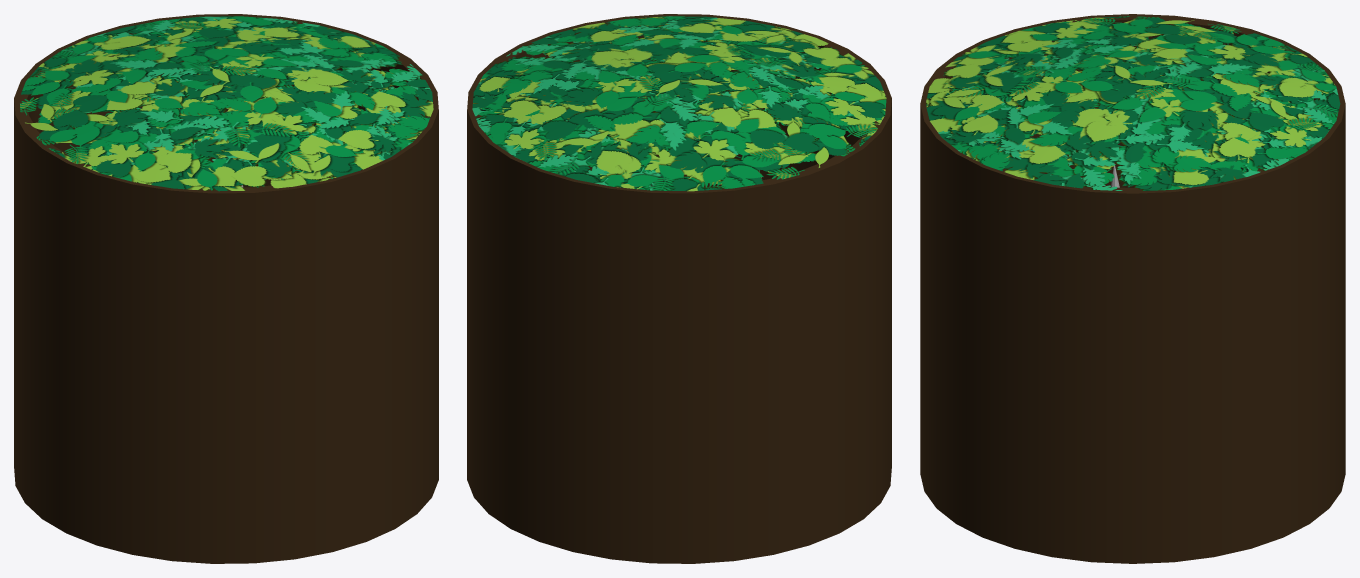
Rendered from Pitfall.fbx.
3 renders of one model, left to right at view 1: azimuth 30°, elevation 25°; view 2: azimuth 150°, elevation 25°; view 3: azimuth 270°, elevation 25°, orthographic.
Visible parts, largest first — view 1: Trap_Pitfall_Hole, Trap_Pitfall_Leaves; view 2: Trap_Pitfall_Hole, Trap_Pitfall_Leaves; view 3: Trap_Pitfall_Hole, Trap_Pitfall_Leaves.
Part boxes in pixels (x1=…): Trap_Pitfall_Hole: x1=14, y1=14, x2=438, y2=563; Trap_Pitfall_Leaves: x1=20, y1=16, x2=433, y2=191; Trap_Pitfall_Hole: x1=467, y1=14, x2=891, y2=563; Trap_Pitfall_Leaves: x1=472, y1=16, x2=886, y2=191; Trap_Pitfall_Hole: x1=920, y1=14, x2=1345, y2=563; Trap_Pitfall_Leaves: x1=925, y1=16, x2=1340, y2=190.
Bounding box in the file's own units: 0.1867 × 0.1901 × 0.1867.
2 materials, 2 textured.
